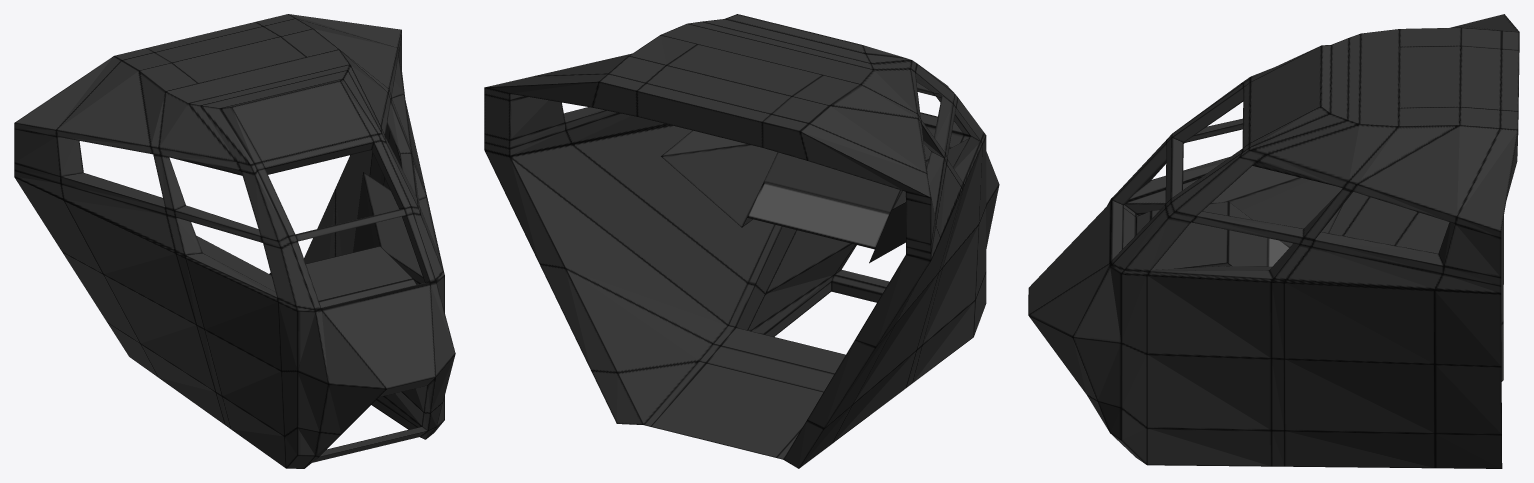
The model's file is cockpitMk2b.obj.
3 renders of one model, left to right at view 1: azimuth 30°, elevation 25°; view 2: azimuth 150°, elevation 25°; view 3: azimuth 270°, elevation 25°, orthographic. The views are drawn at different scales.
Visible parts, largest first — view 1: Cube; view 2: Cube; view 3: Cube.
Part boxes in pixels (x1,y1,x2,y2): Cube: [14, 14, 455, 468]; Cube: [484, 14, 999, 468]; Cube: [1028, 14, 1519, 468].
Size of the model in its own units: 4.88 by 3.64 by 4.66.
